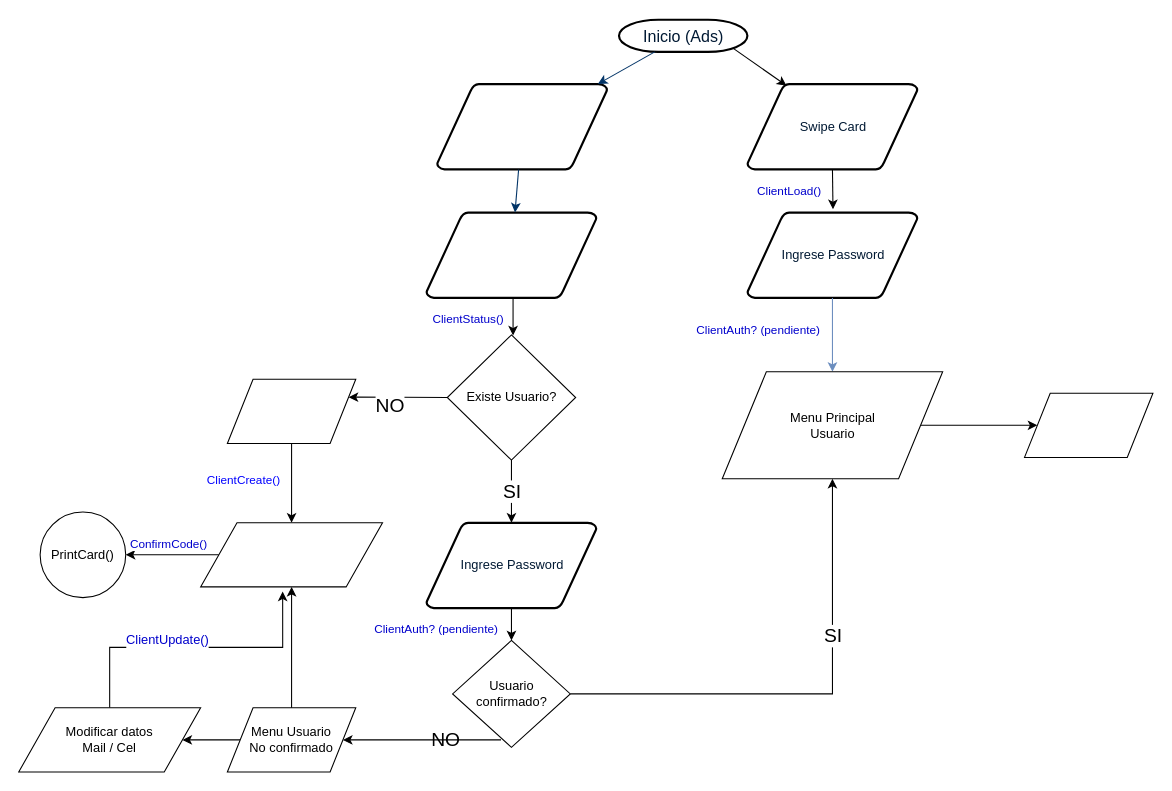
This 1172x791 diagram has some shape labels left out. The shapes that lost their labels are listed below. From the top down, each one's box as (x1, y1, x2, y2) in pixels, then its label:
(435, 82, 608, 170): Tap Screen
(425, 211, 597, 299): Ingrese # Doc
(226, 378, 356, 444): Form ClientCreate
(1023, 392, 1153, 457): Canjes
(200, 522, 383, 587): Ingreso Cod. Confirmación
